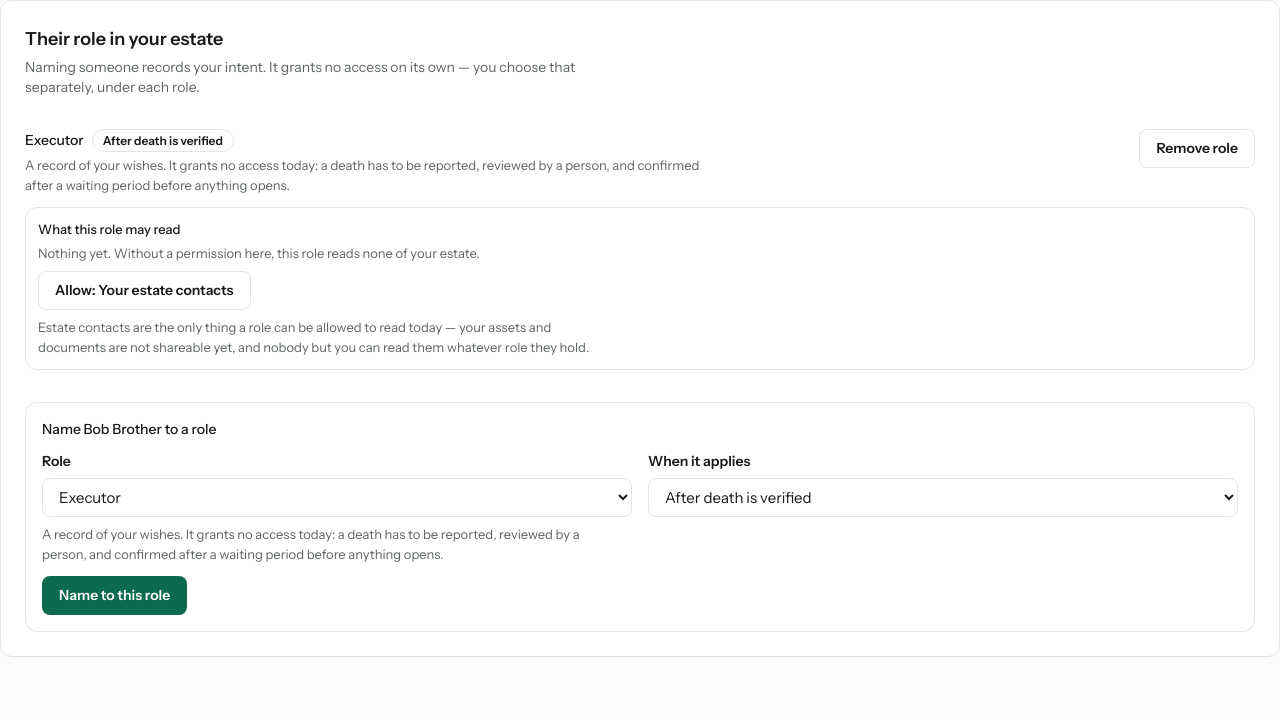
the three-way step-up asymmetry › prompts for a code when REMOVING a role too, with its own wording
Expected: the text "Executor" is shown, [25, 131, 84, 149]
Click the button "Remove role" at (1197, 148), box [1139, 129, 1255, 168]
(page scrolled)
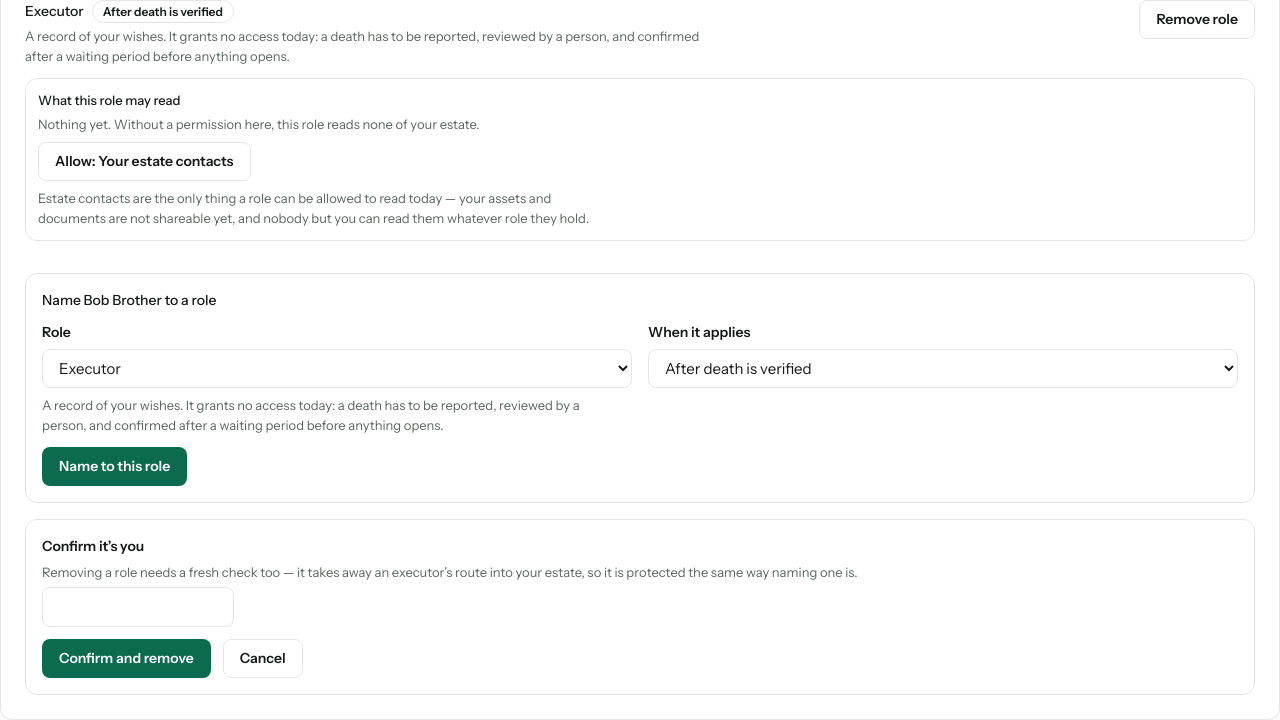
Now the text "Removing a role needs a fresh check too" is shown, box [42, 564, 858, 580]
Now the button "Confirm and remove" is shown, box [42, 639, 211, 678]
